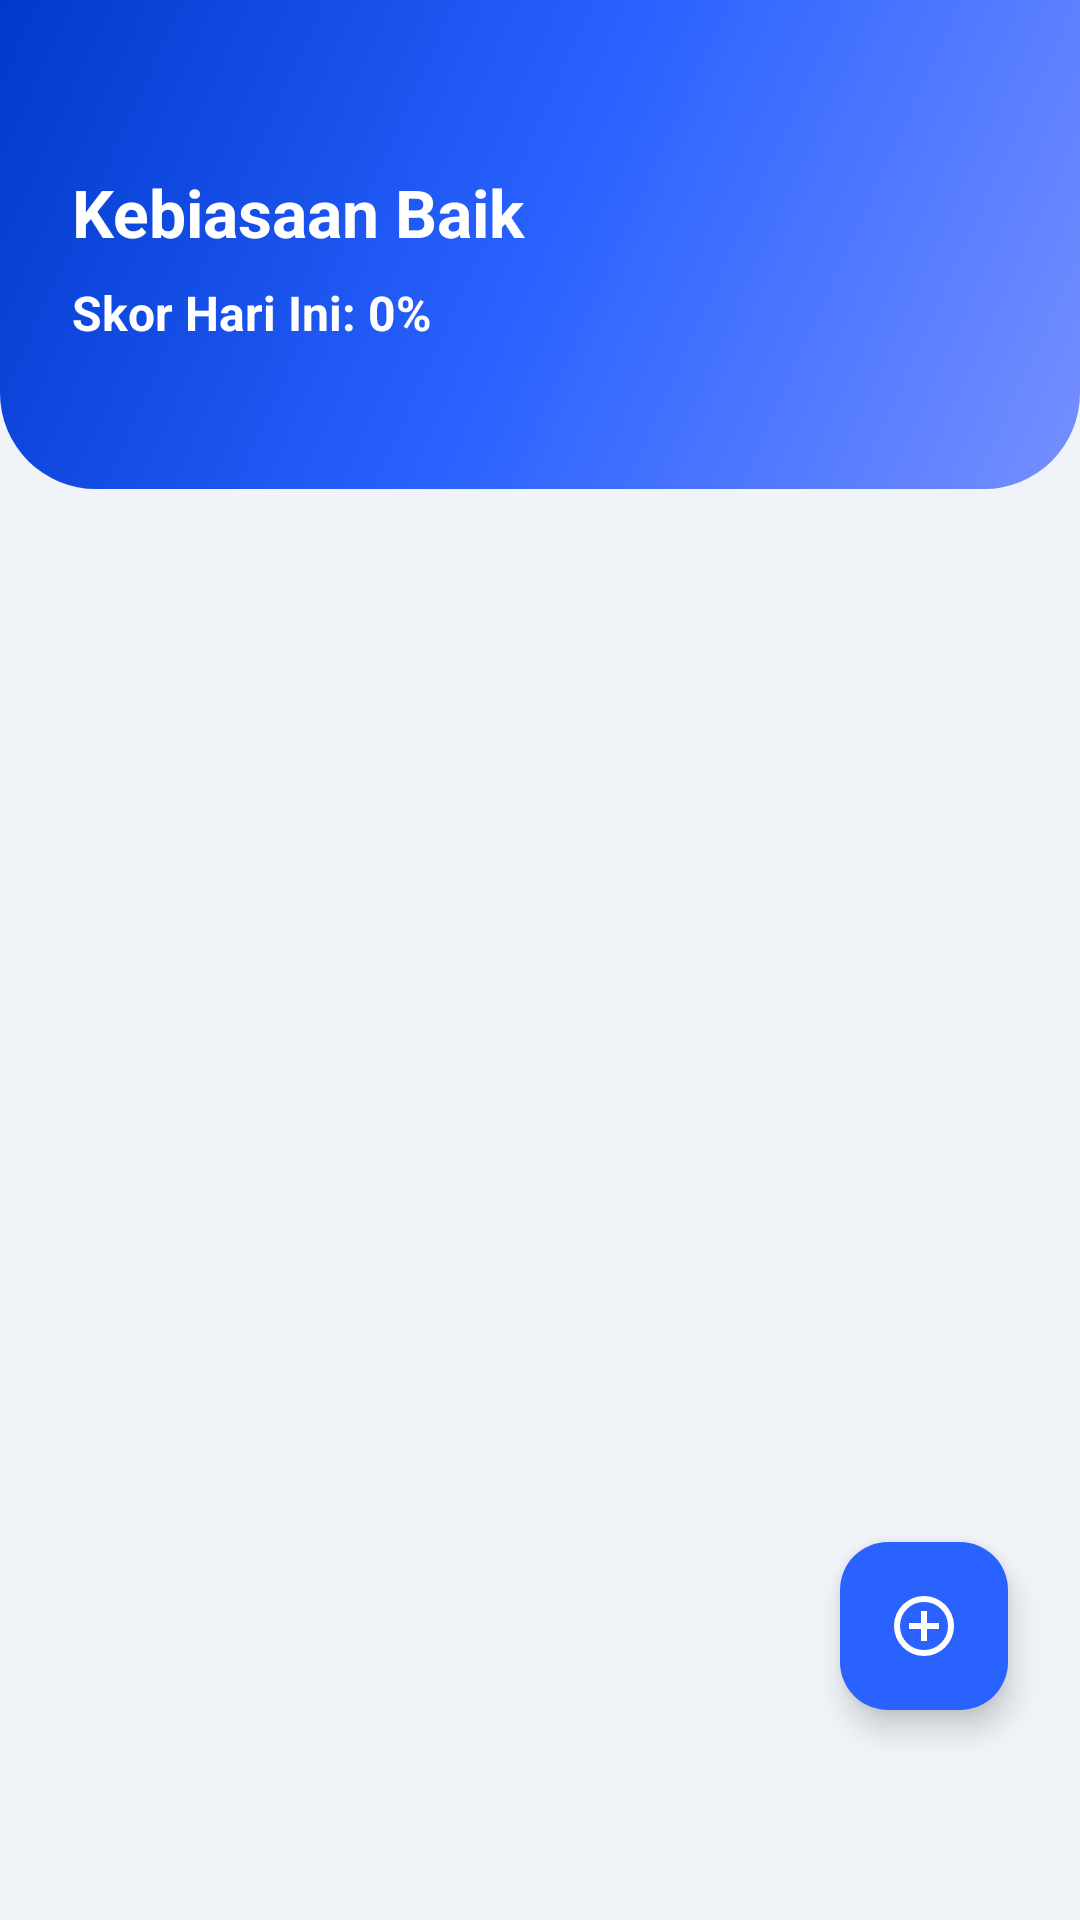

Point at icon controls on the screen. Image size 1080px×1920px, points as [x,y].
Kebiasaan Baru: [924,1626]
